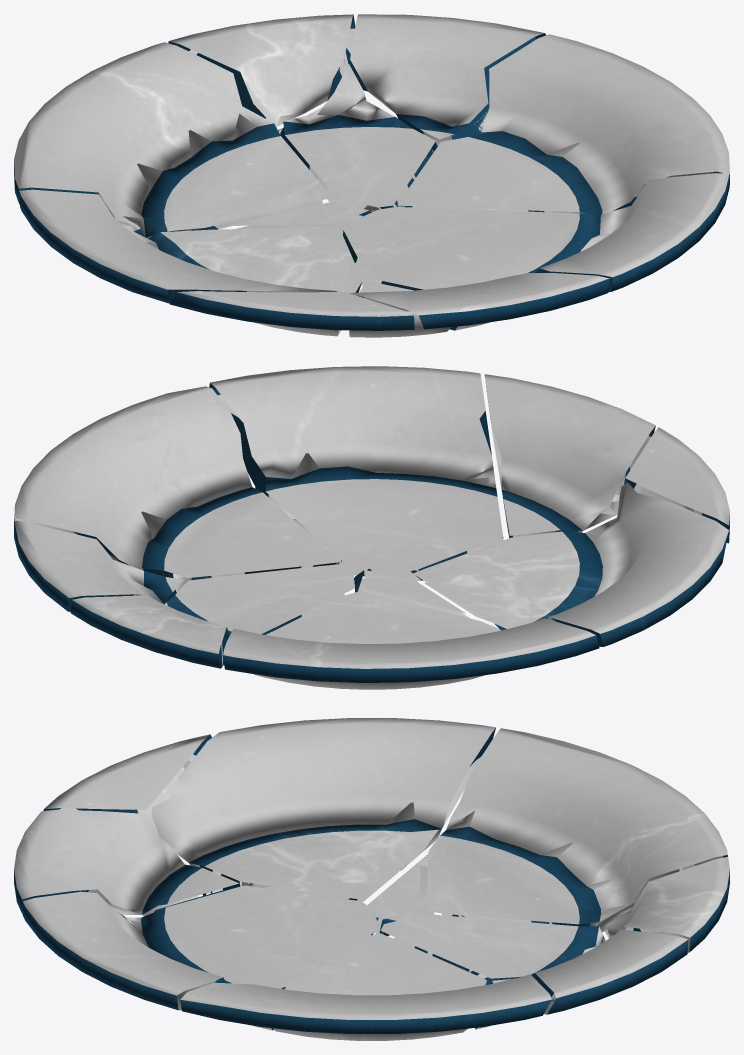
The model's file is FracturedPlate.fbx.
3 views of the same model, one above another, from view 1: azimuth 30°, elevation 25°; view 2: azimuth 150°, elevation 25°; view 3: azimuth 270°, elevation 25° (orthographic).
Parts seen in each view (by area): view 1: Plate Main Model_cell.003, Plate Main Model_cell.002, Plate Main Model_cell.001, Plate Main Model_cell.006, Plate Main Model_cell, Plate Main Model_cell.009, Plate Main Model_cell.007, Plate Main Model_cell.008, Plate Main Model_cell.004, Plate Main Model_cell.005; view 2: Plate Main Model_cell.001, Plate Main Model_cell.002, Plate Main Model_cell.006, Plate Main Model_cell.003, Plate Main Model_cell.008, Plate Main Model_cell.007, Plate Main Model_cell, Plate Main Model_cell.009, Plate Main Model_cell.004, Plate Main Model_cell.005; view 3: Plate Main Model_cell.006, Plate Main Model_cell.003, Plate Main Model_cell.001, Plate Main Model_cell.002, Plate Main Model_cell.008, Plate Main Model_cell.007, Plate Main Model_cell, Plate Main Model_cell.009, Plate Main Model_cell.004, Plate Main Model_cell.005.
Boxes of the visible parts, left/top/right/bottom form: Plate Main Model_cell.003: left=14, top=42, right=328, bottom=238; Plate Main Model_cell.002: left=397, top=34, right=729, bottom=214; Plate Main Model_cell.001: left=343, top=173, right=729, bottom=330; Plate Main Model_cell.006: left=19, top=189, right=362, bottom=336; Plate Main Model_cell: left=350, top=14, right=545, bottom=152; Plate Main Model_cell.009: left=168, top=14, right=355, bottom=126; Plate Main Model_cell.007: left=278, top=64, right=437, bottom=212; Plate Main Model_cell.008: left=349, top=273, right=609, bottom=337; Plate Main Model_cell.004: left=169, top=291, right=414, bottom=330; Plate Main Model_cell.005: left=230, top=201, right=371, bottom=234; Plate Main Model_cell.001: left=209, top=366, right=503, bottom=581; Plate Main Model_cell.002: left=14, top=386, right=339, bottom=594; Plate Main Model_cell.006: left=413, top=482, right=728, bottom=646; Plate Main Model_cell.003: left=223, top=591, right=599, bottom=689; Plate Main Model_cell.008: left=484, top=374, right=655, bottom=538; Plate Main Model_cell.007: left=164, top=564, right=353, bottom=646; Plate Main Model_cell: left=14, top=520, right=183, bottom=611; Plate Main Model_cell.009: left=70, top=595, right=229, bottom=668; Plate Main Model_cell.004: left=625, top=427, right=729, bottom=543; Plate Main Model_cell.005: left=354, top=570, right=469, bottom=618; Plate Main Model_cell.006: left=151, top=718, right=495, bottom=902; Plate Main Model_cell.003: left=427, top=728, right=727, bottom=932; Plate Main Model_cell.001: left=22, top=885, right=379, bottom=1030; Plate Main Model_cell.002: left=180, top=932, right=551, bottom=1040; Plate Main Model_cell.008: left=14, top=809, right=239, bottom=916; Plate Main Model_cell.007: left=380, top=914, right=605, bottom=984; Plate Main Model_cell: left=475, top=929, right=688, bottom=1029; Plate Main Model_cell.009: left=604, top=857, right=729, bottom=952; Plate Main Model_cell.004: left=43, top=734, right=211, bottom=832; Plate Main Model_cell.005: left=367, top=854, right=434, bottom=934.
Bounding box in the file's own units: 28.53 × 3.6 × 28.58.
